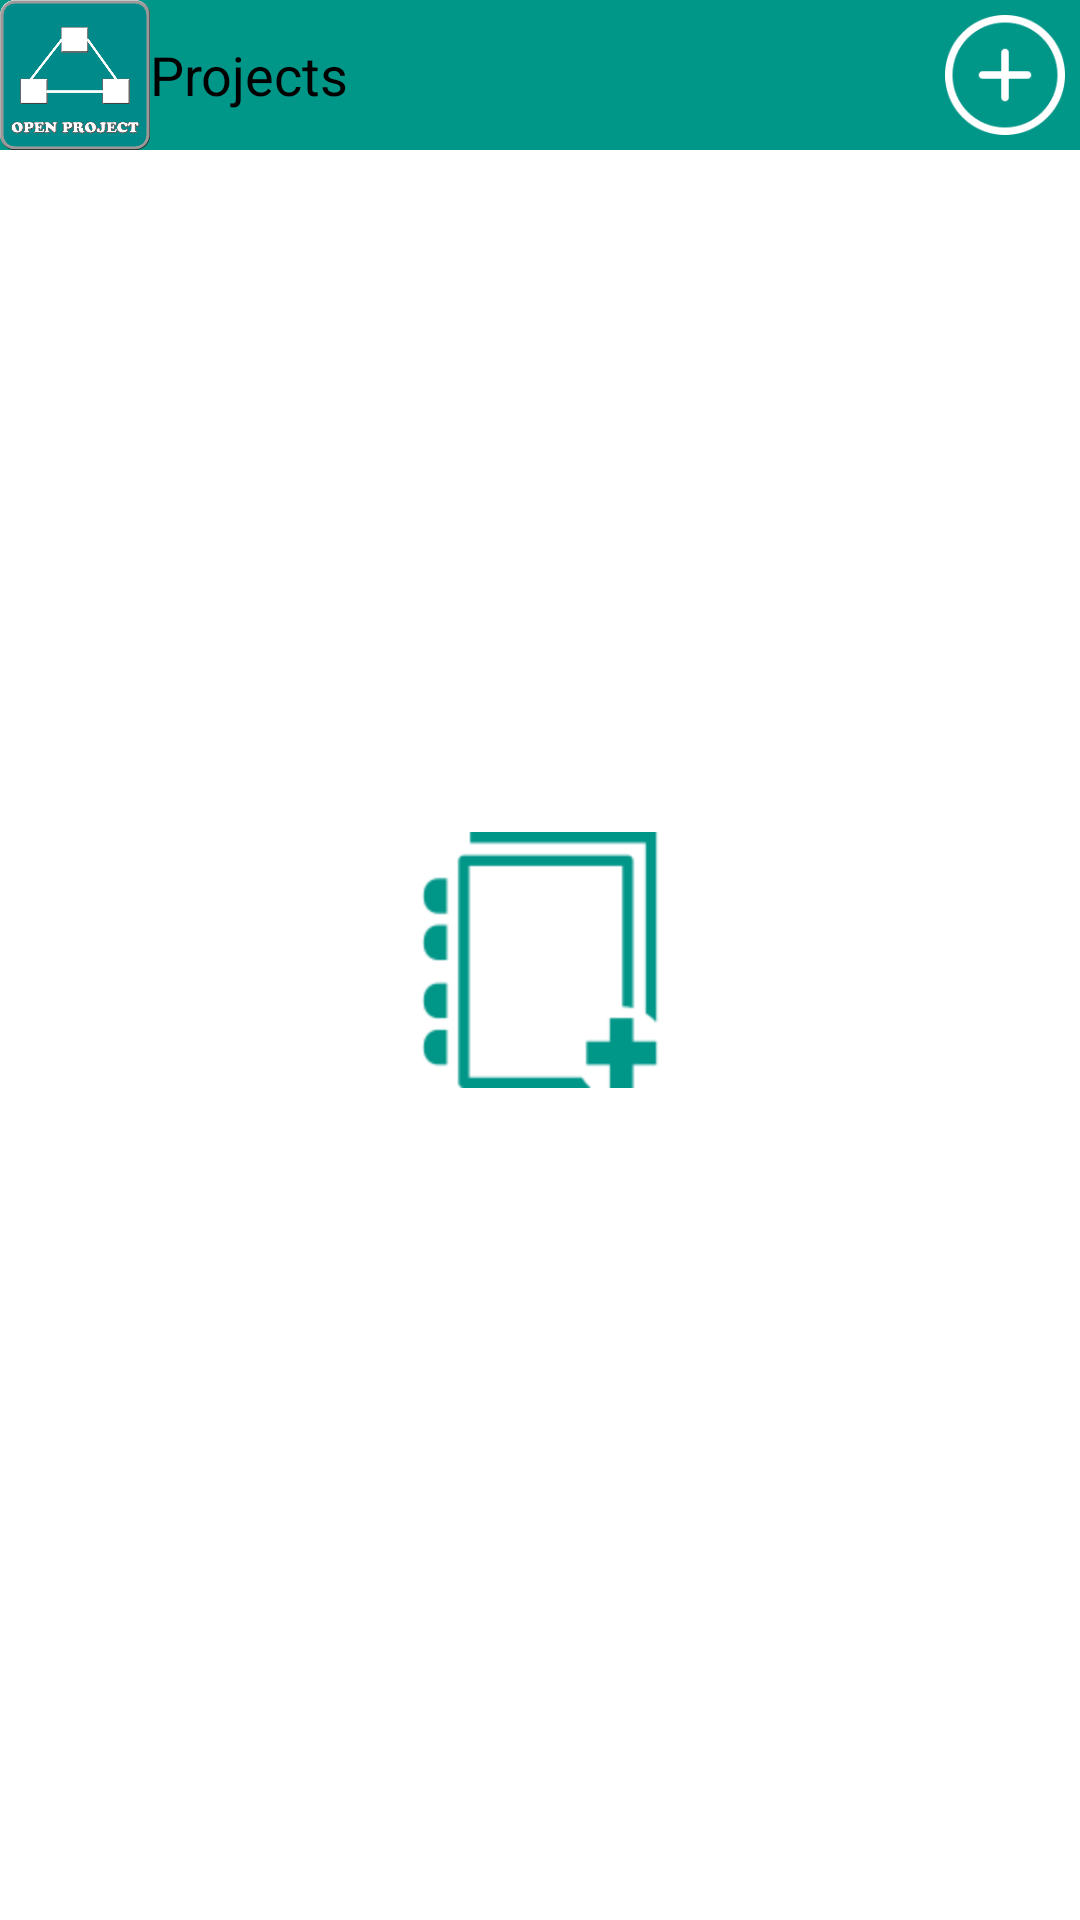

Where icons sit on this 1080w x 1920h app screen, as (x1, y1, x2, y2):
add: (945, 15, 1065, 135)
addproject: (422, 832, 658, 1088)
